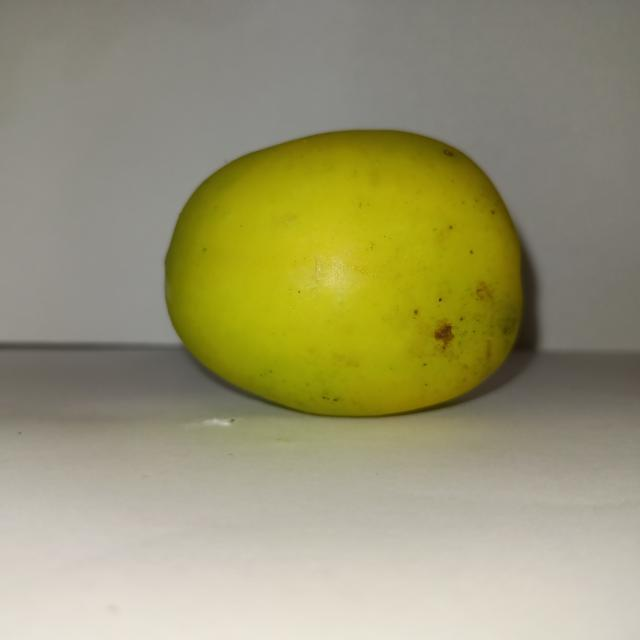Red: (162, 126, 525, 418)
